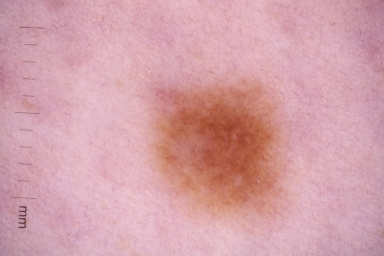melanoma: (159, 86, 284, 212)
